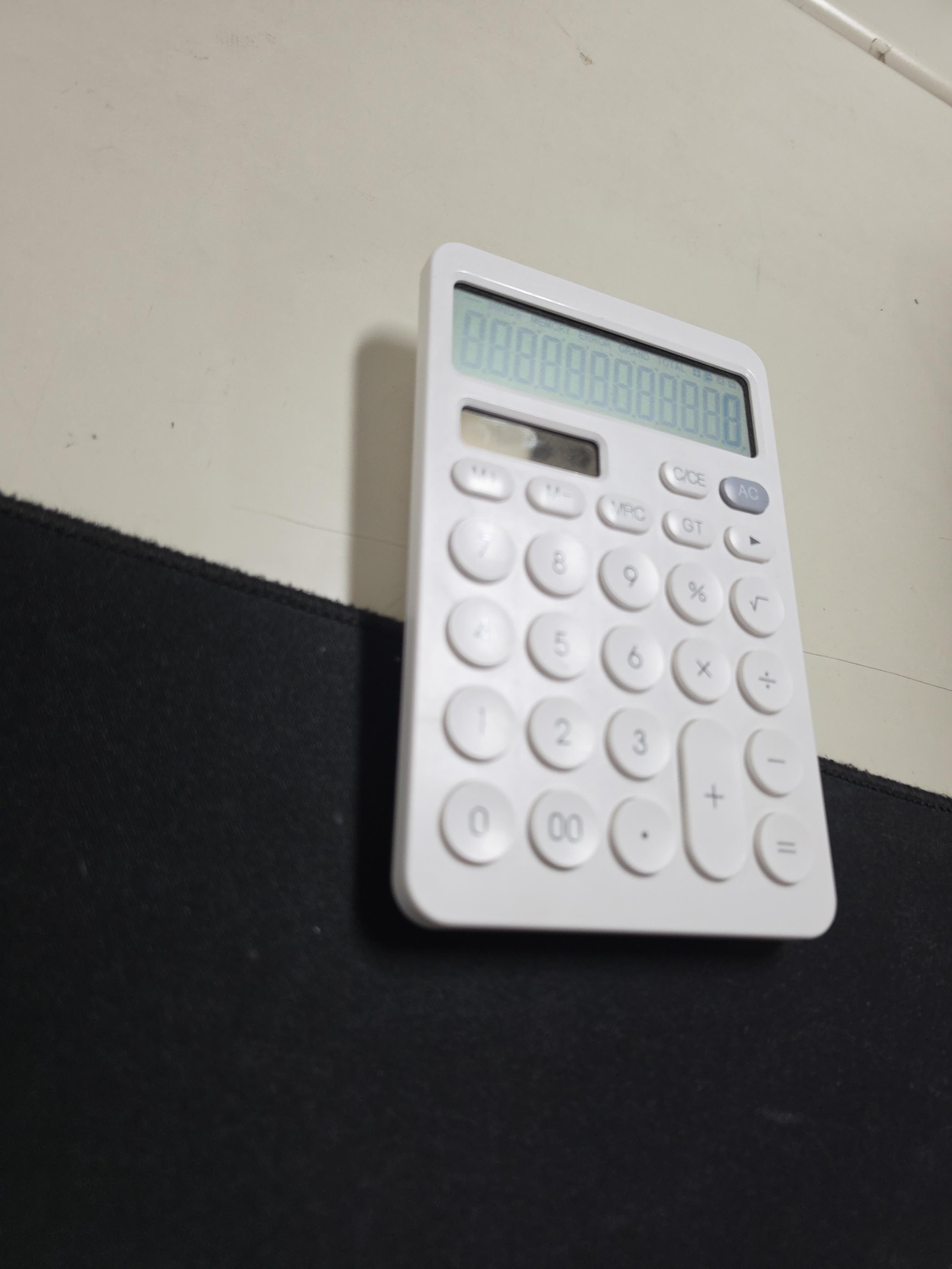calculator: (392, 242, 837, 941)
